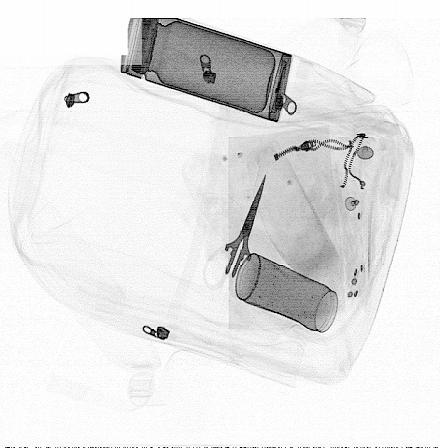Scissors: (202, 172, 267, 306)
